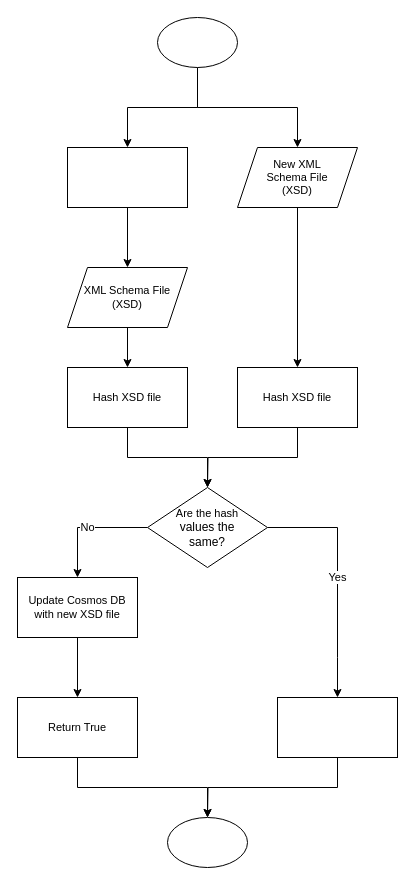
This 415x885 diagram has some shape labels left out. Each missing label, with the box of its shape:
END: (166, 816, 248, 868)
Retrieve path of the last used XML Schema file from Cosmos DB: (66, 146, 188, 208)
Return False: (276, 696, 398, 758)
START: (156, 16, 238, 68)
